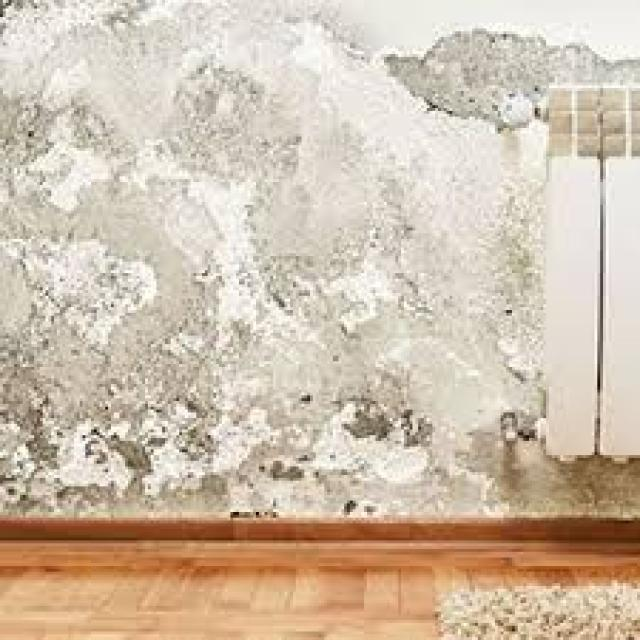dampness: (1, 0, 635, 515)
